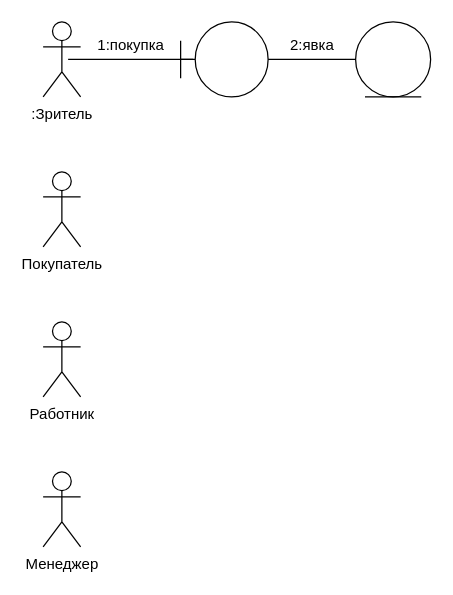
Some shapes in this 453 by 595 pixel diagram are drawn without their labels. Here are the shapes that lost their labels. From the top down, the centre of each, then its label:
At (x=223, y=59): ":билет".
At (x=392, y=59): ":сеанс".
